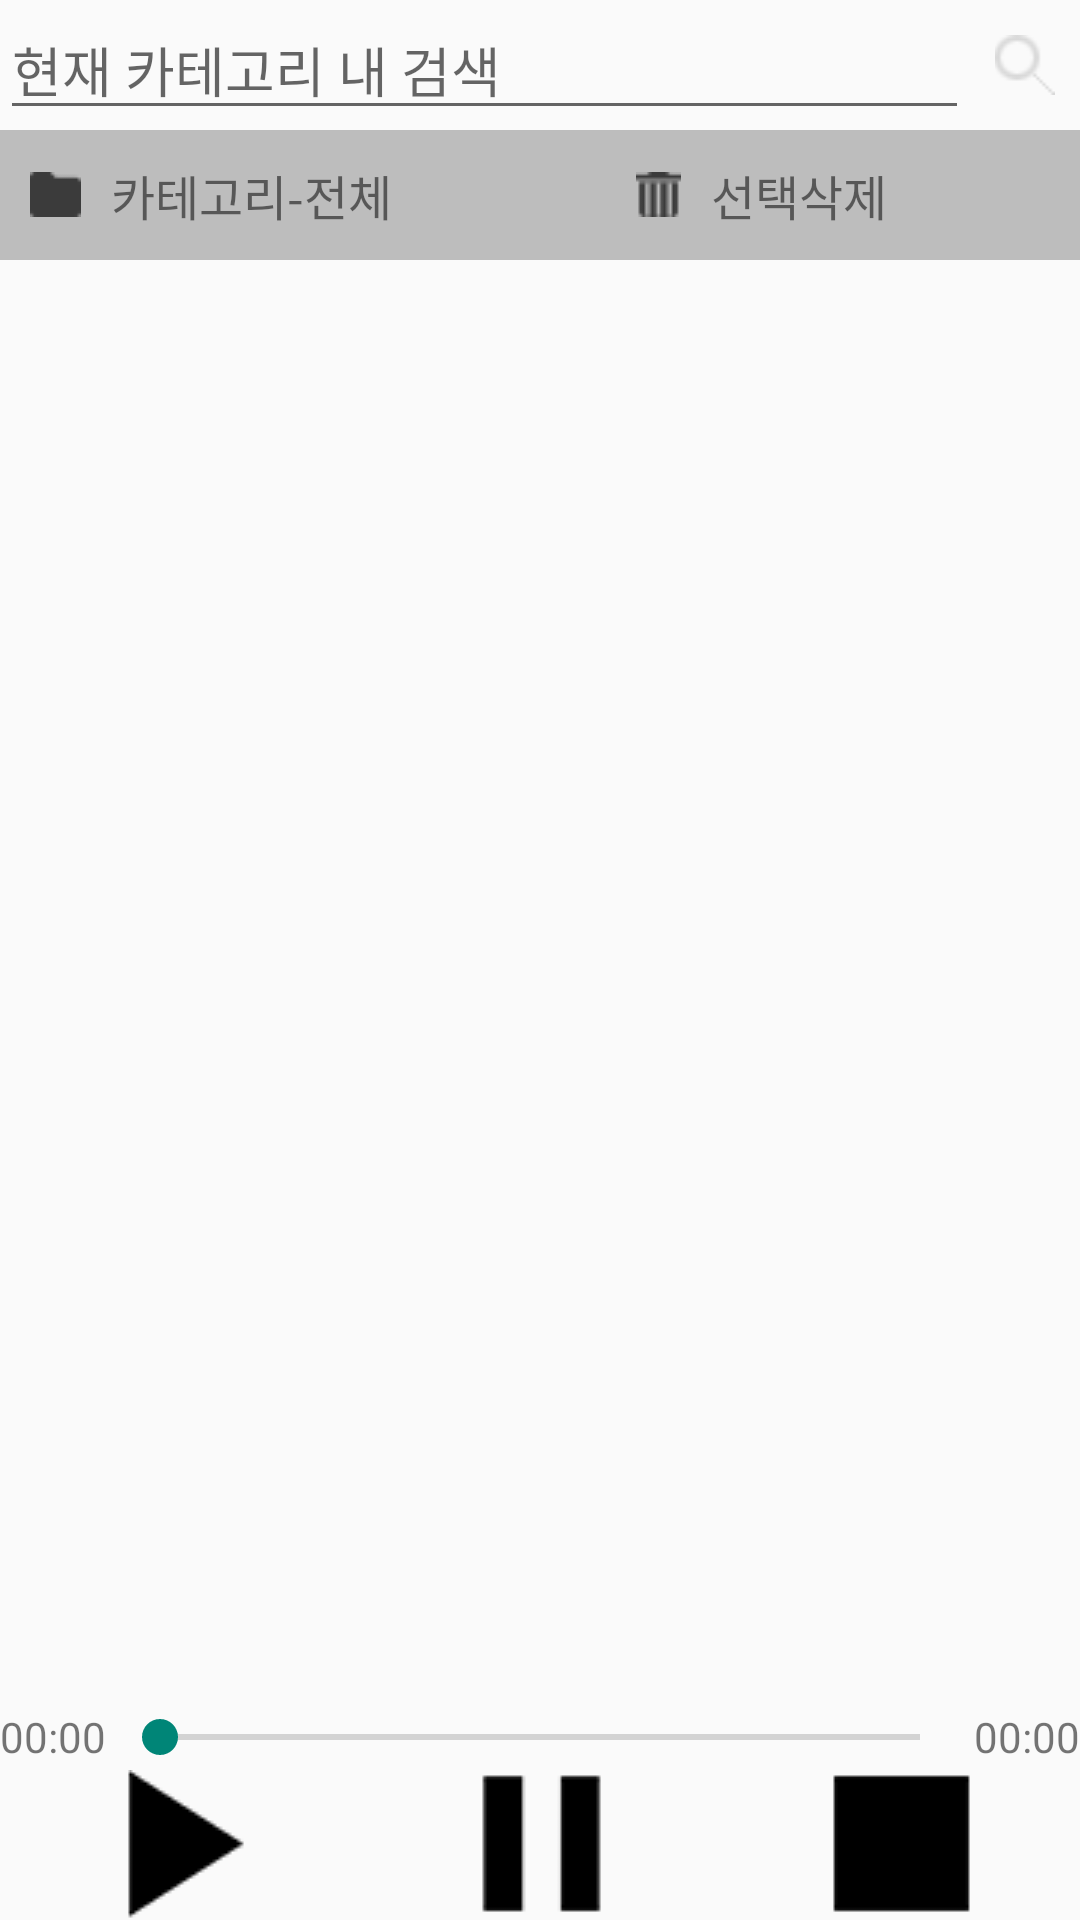

Icons on this 1080w x 1920h Android screen, each with its box as (x1,y1,x2,y2):
category: (30,172,81,217)
pause: (482,1775,601,1912)
play: (128,1770,244,1918)
search: (995,35,1055,95)
stop: (833,1775,970,1912)
trashcan: (636,172,681,217)
